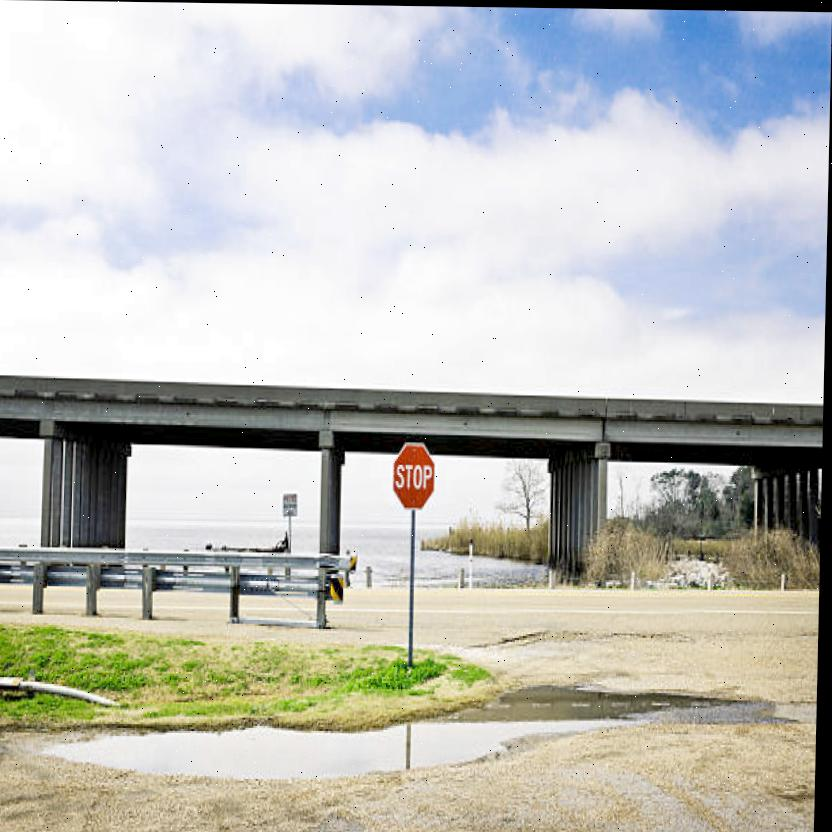Pole: (410, 510, 420, 662)
Sign: (395, 442, 438, 509)
